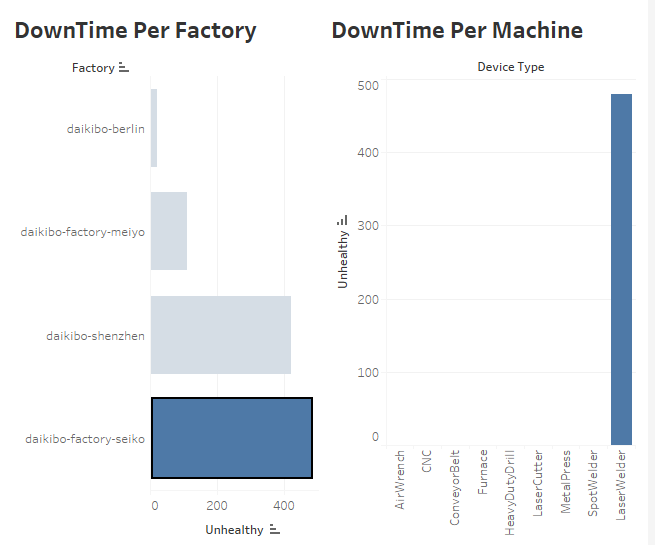

Layout of this report page (visuals, bound fields, positions):
{"tool":"tableau","page":{"name":"Dashboard","canvas":[650,860],"ordinal":0},"visuals":[{"type":"worksheet","title":"BarChart1","mark":"Automatic","rows":["factory"],"cols":["Calculation_389279907338797056"],"box":[8,12.3,317,835.4]},{"type":"worksheet","title":"BarChart2","mark":"Automatic","rows":["Calculation_389279907338797056"],"cols":["deviceType"],"box":[325,12.3,317,835.4]}]}

Visuals, with their boxes on the page's 650x860 design canvas (x1, y1, x2, y2). These are canvas units, not pixel positions in the 655x545 screenshot, which may show the page scaled, cropped or inside an application window:
"BarChart1" worksheet: <bbox>8, 12, 325, 848</bbox>
"BarChart2" worksheet: <bbox>325, 12, 642, 848</bbox>
